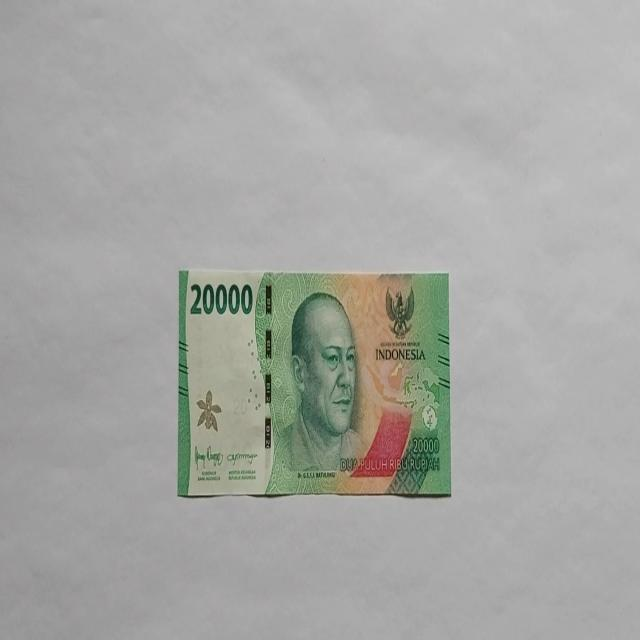dua puluh ribu rupiah: (176, 266, 452, 498), (278, 290, 368, 480)
